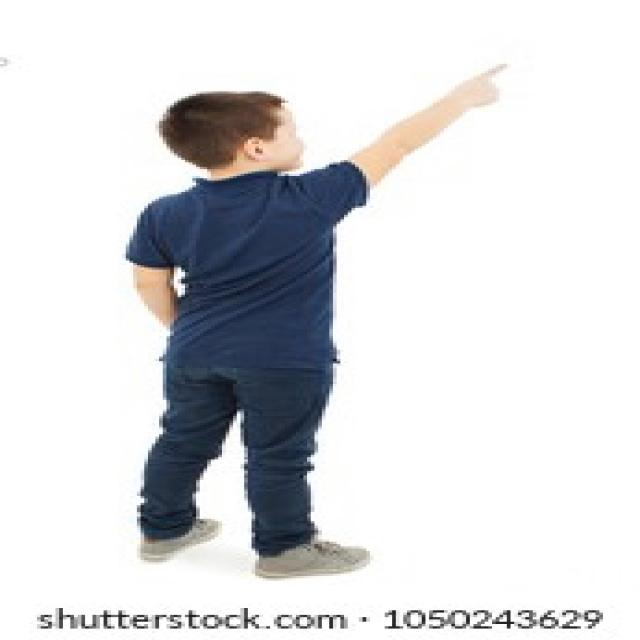child: (120, 57, 515, 576)
